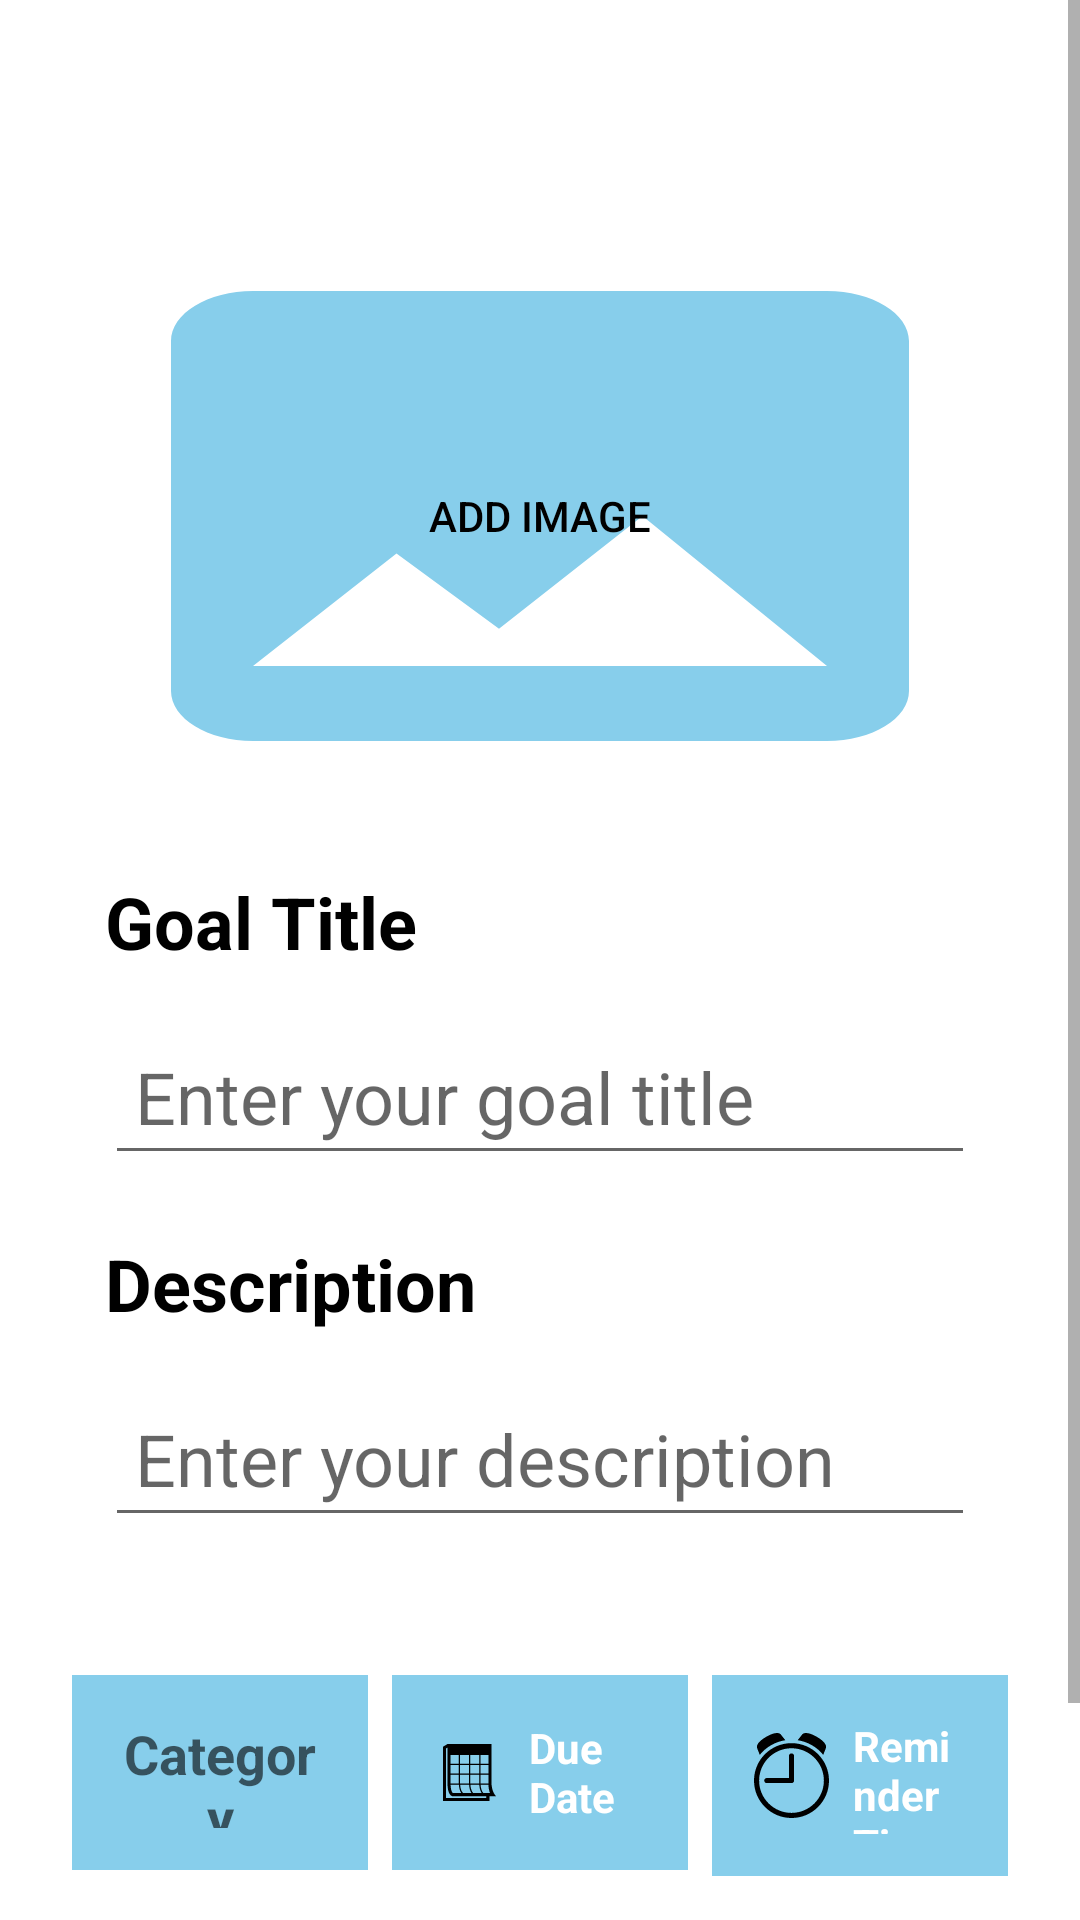

Named icons in this screenshot (1080*1920) and their bounding boxes, (x1, y1, x2, y2):
calendar: (443, 1744, 496, 1801)
clock: (754, 1733, 829, 1818)
